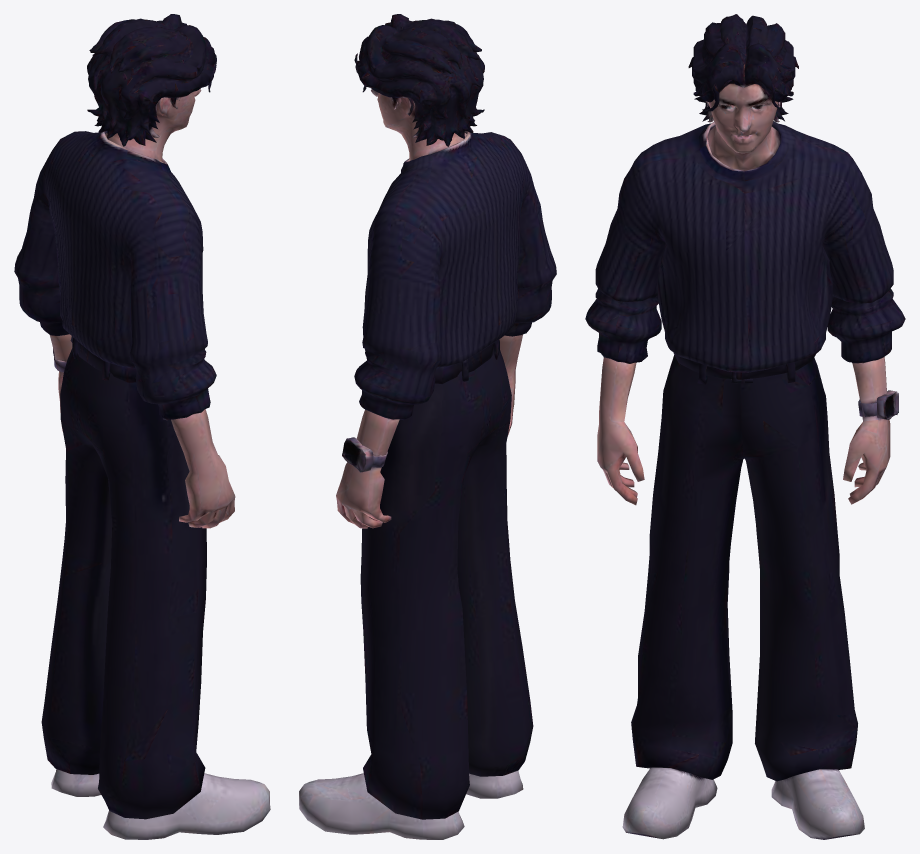
Rendered from hero-v18.glb.
3 renders of one model, left to right at view 1: azimuth 30°, elevation 25°; view 2: azimuth 150°, elevation 25°; view 3: azimuth 270°, elevation 25°, orthographic.
Visible parts, largest first — view 1: tripo_node_a4d9fe72-58e4-4b55-9b29-dc28da330372; view 2: tripo_node_a4d9fe72-58e4-4b55-9b29-dc28da330372; view 3: tripo_node_a4d9fe72-58e4-4b55-9b29-dc28da330372.
Boxes of the visible parts, x1=… form: tripo_node_a4d9fe72-58e4-4b55-9b29-dc28da330372: x1=14, y1=14, x2=270, y2=839; tripo_node_a4d9fe72-58e4-4b55-9b29-dc28da330372: x1=299, y1=14, x2=556, y2=839; tripo_node_a4d9fe72-58e4-4b55-9b29-dc28da330372: x1=585, y1=14, x2=905, y2=839.
Size of the model in its own units: 0.2051 by 0.998 by 0.3691.
1 material, 1 textured.
